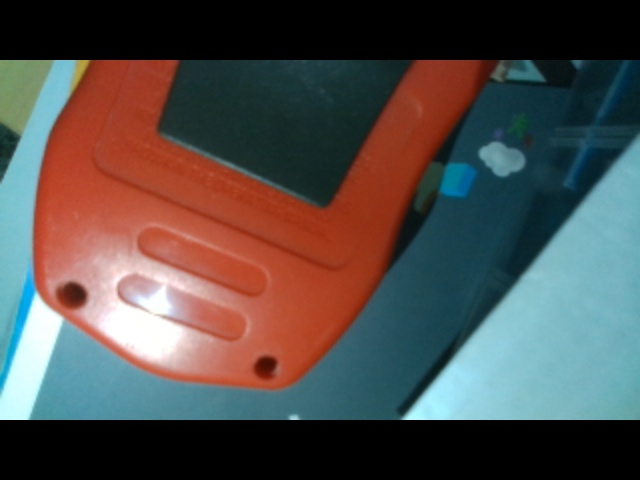Screw holes: (53, 276, 91, 311), (252, 352, 282, 383)
